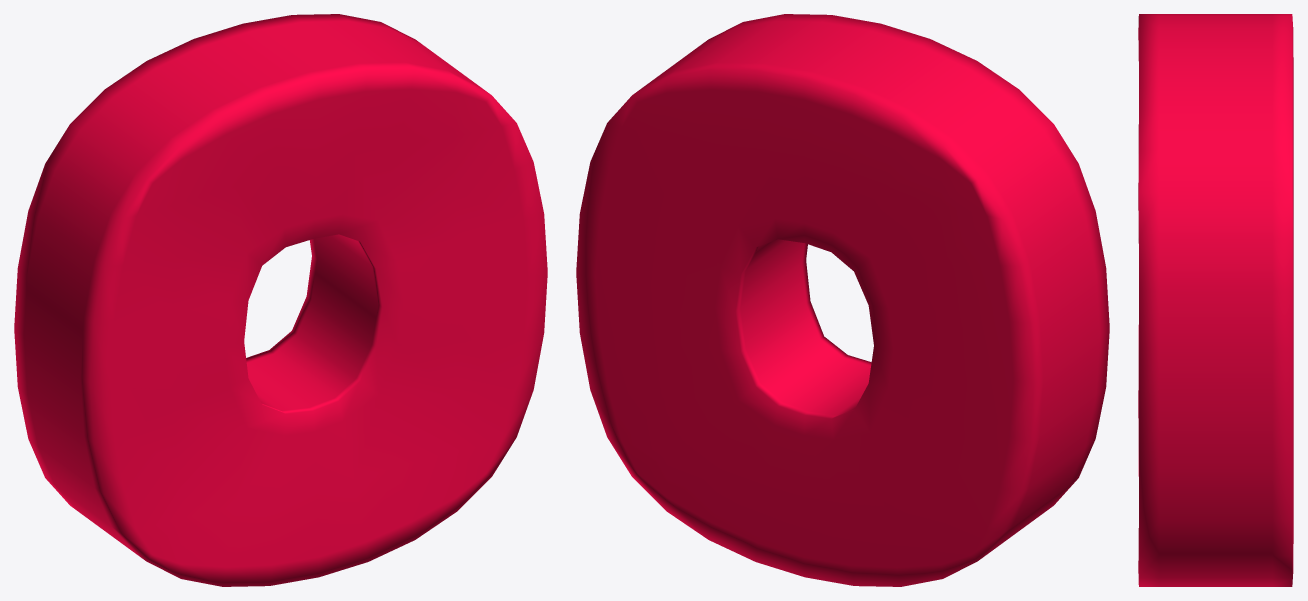
3 renders of one model, left to right at view 1: azimuth 30°, elevation 25°; view 2: azimuth 150°, elevation 25°; view 3: azimuth 270°, elevation 25°, orthographic.
Parts seen in each view (by area): view 1: OO; view 2: OO; view 3: OO.
Part boxes in pixels (x1,y1,x2,y2): OO: (14, 14, 547, 586); OO: (576, 14, 1109, 586); OO: (1138, 14, 1293, 586).
Bounding box in the file's own units: 0.4659 × 0.4846 × 0.1359.
